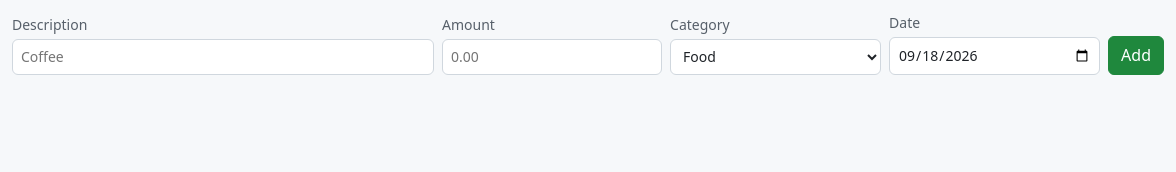
Scenario: ExpenseForm › rejects empty description and shows error
Type "5.00" into the field labelled "Amount" at (552, 57), box [442,39,662,75]
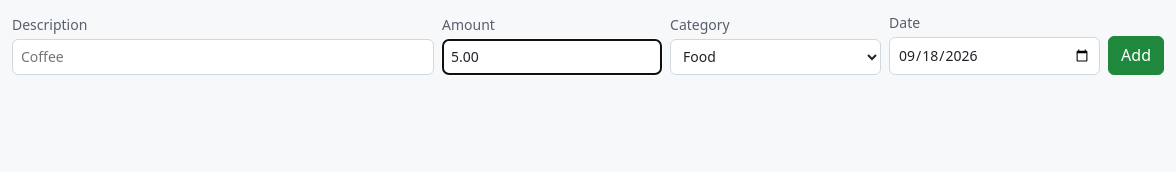
Click the button "Add" at (1136, 55), box [1108,36,1164,75]
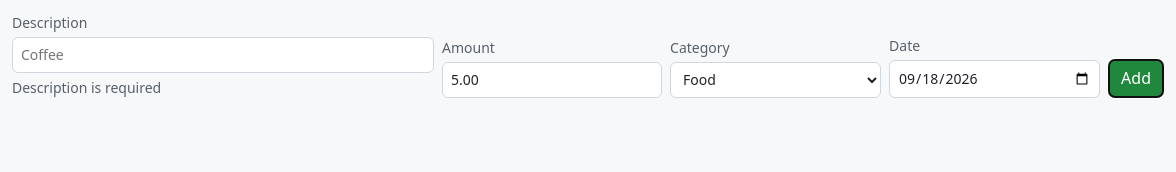
Expected: the text "Description is required" is shown, [12,78,161,97]
